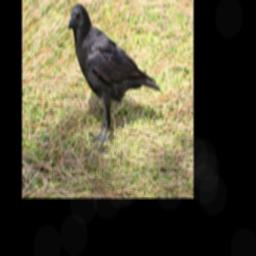Crow: (69, 3, 163, 156)
